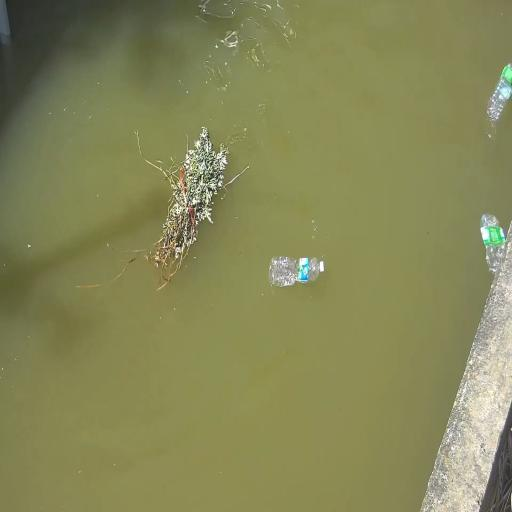plastic: (269, 257, 324, 286), (481, 214, 505, 274), (487, 64, 511, 123)
twig: (155, 127, 229, 266)
